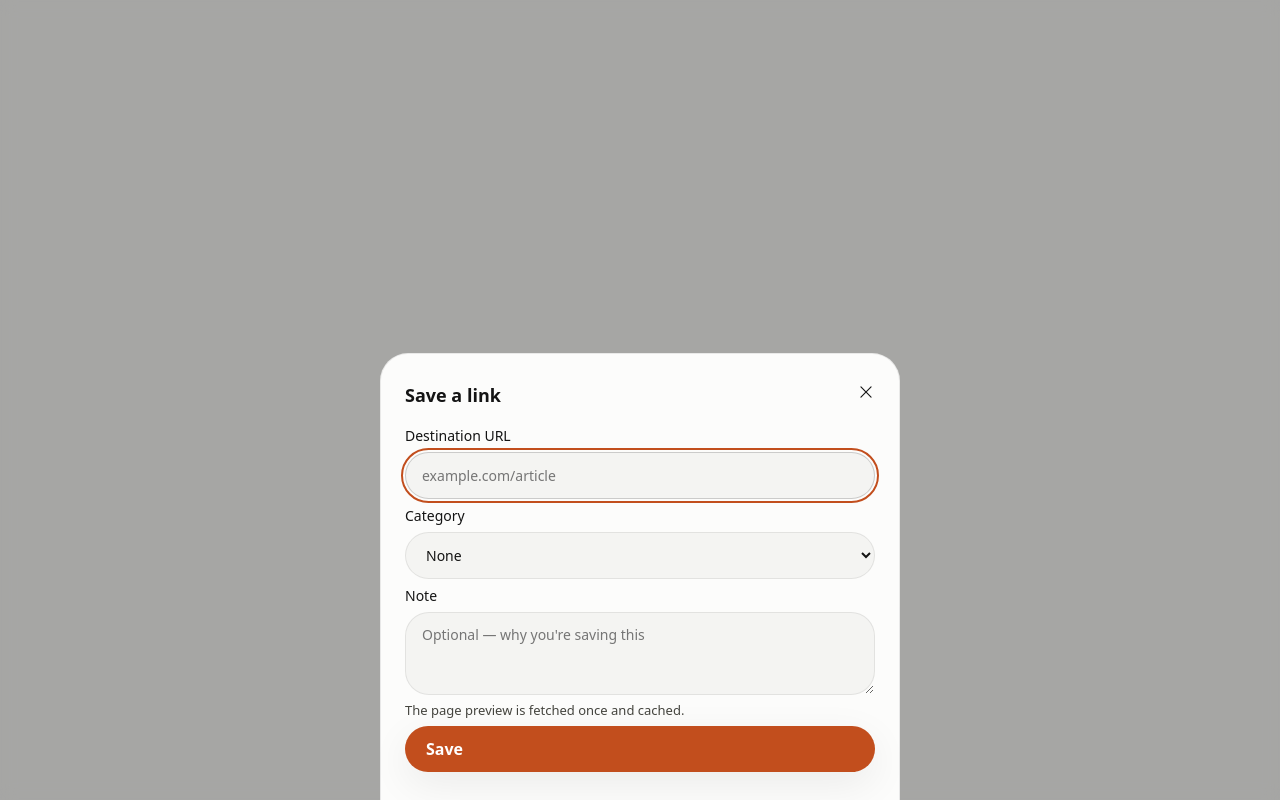
Test: AddLinkSheet › shows an inline error for an invalid URL
The image size is (1280, 800).
Type "not a url" into the field labelled "Destination URL" at (640, 475), box [405,452,875,498]
Then press Enter
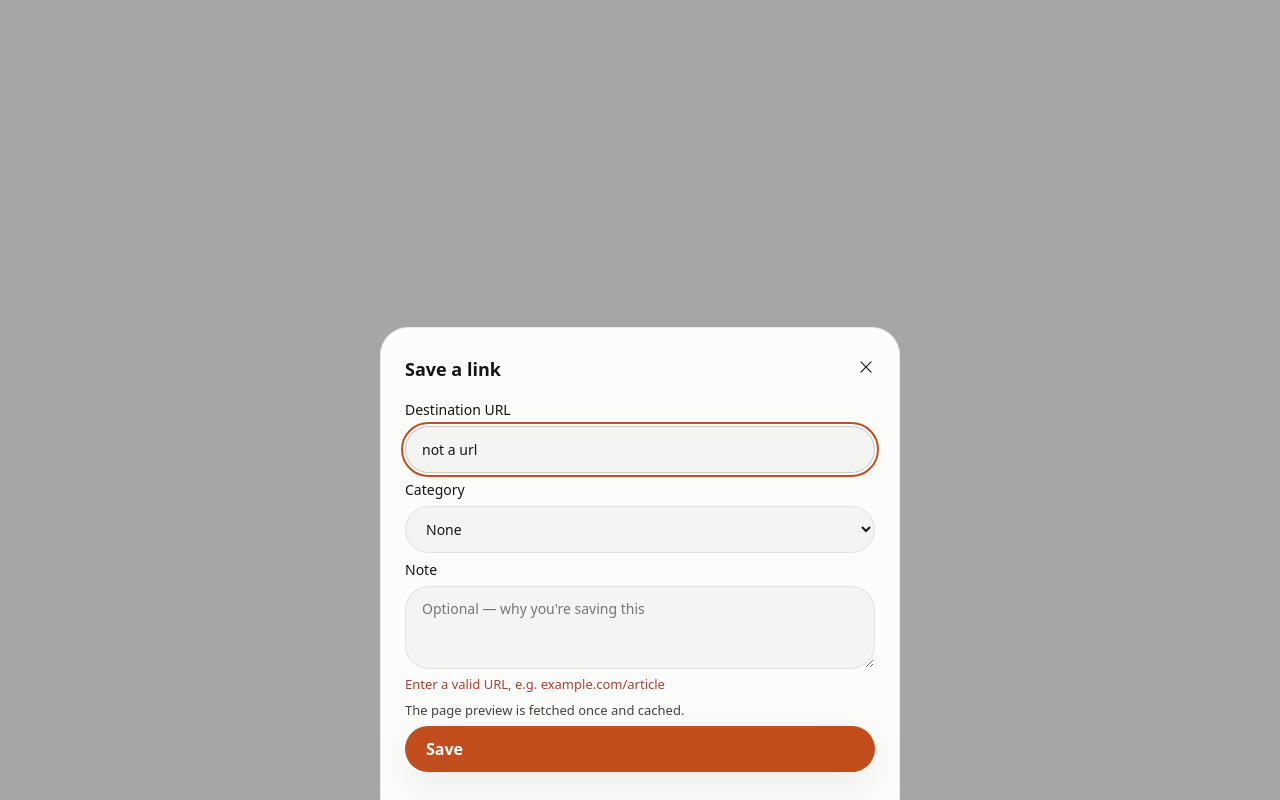
Check: the message shows "Enter a valid URL", box [405,675,665,693]
